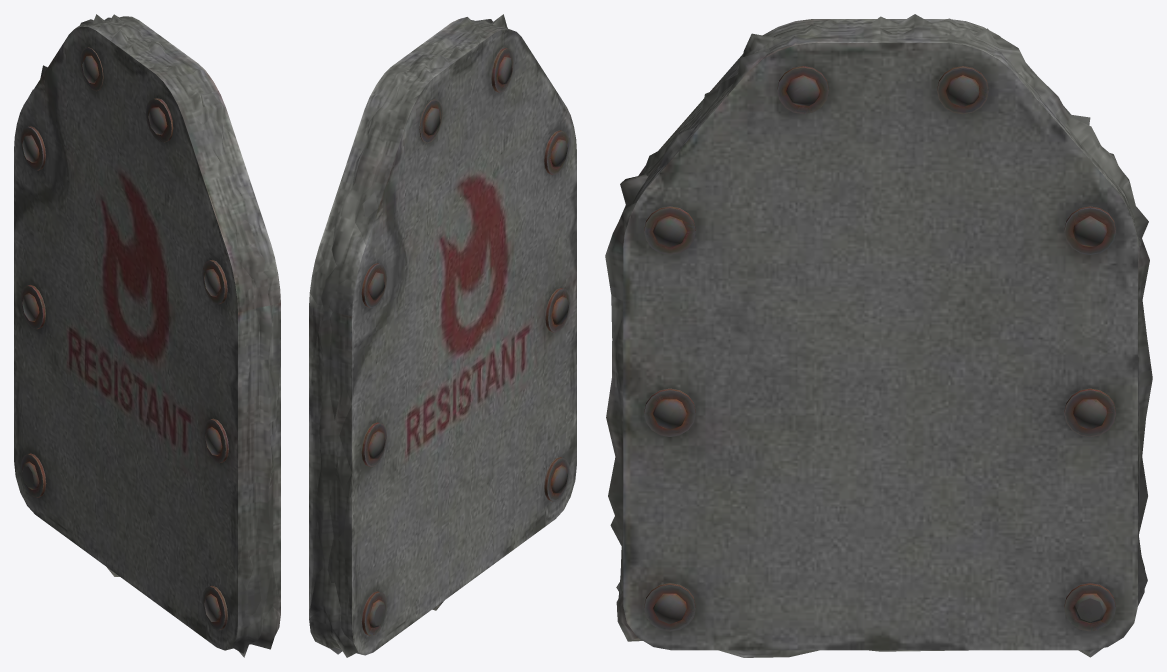
Rendered from asbestosarmourplate.worldmodel.glb.
The picture shows the model from 3 angles, left to right: view 1: azimuth 30°, elevation 25°; view 2: azimuth 150°, elevation 25°; view 3: azimuth 270°, elevation 25°; orthographic projection. The views are drawn at different scales.
Parts seen in each view (by area): view 1: AsbestosArmourPlate.worldmodel; view 2: AsbestosArmourPlate.worldmodel; view 3: AsbestosArmourPlate.worldmodel.
Part boxes in pixels (x1,y1,x2,y2): AsbestosArmourPlate.worldmodel: (14, 14, 280, 657); AsbestosArmourPlate.worldmodel: (309, 14, 576, 657); AsbestosArmourPlate.worldmodel: (605, 14, 1152, 657).
Size of the model in its own units: 0.0383 by 0.3445 by 0.2709.
Materials: 1 (1 with a texture image).
